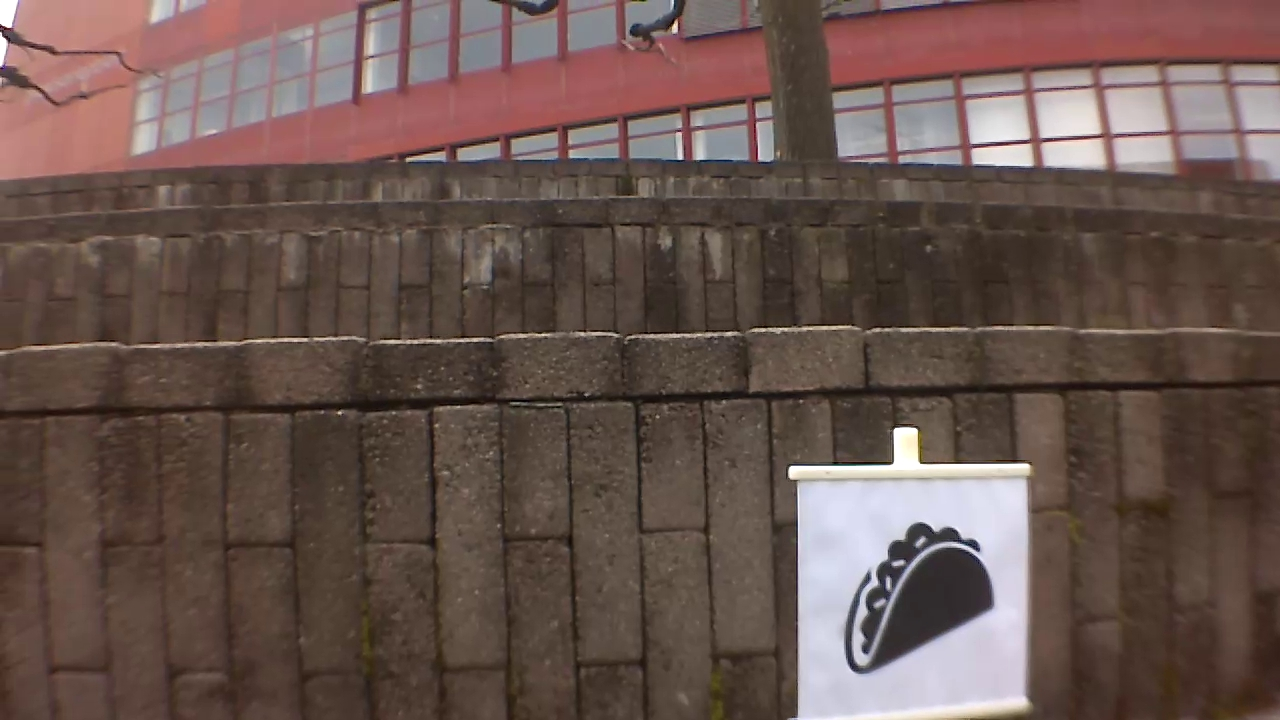taco: (829, 511, 1006, 684)
